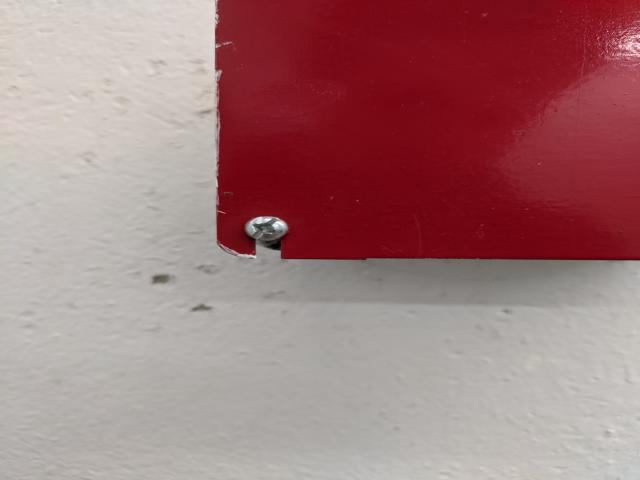CRS: (245, 216, 290, 242)
